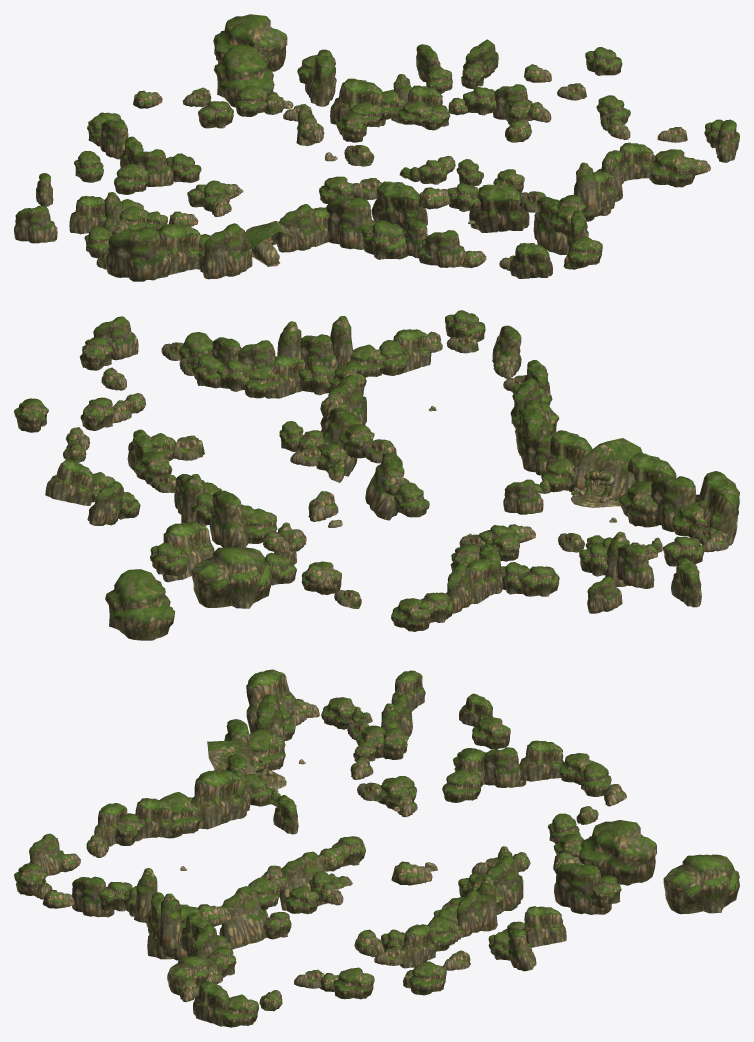
File: all_daliang_field_d_s01.fbx
3 views of the same model, one above another, from view 1: azimuth 30°, elevation 25°; view 2: azimuth 150°, elevation 25°; view 3: azimuth 270°, elevation 25° (orthographic). The views are drawn at different scales.
Parts seen in each view (by area): view 1: all_daliang_field_d_s01; view 2: all_daliang_field_d_s01; view 3: all_daliang_field_d_s01.
Boxes of the visible parts, <box> form: all_daliang_field_d_s01: <box>14,14,739,281</box>; all_daliang_field_d_s01: <box>14,310,739,640</box>; all_daliang_field_d_s01: <box>14,669,739,1027</box>.
Size of the model in its own units: 23210 by 3193 by 21222.
